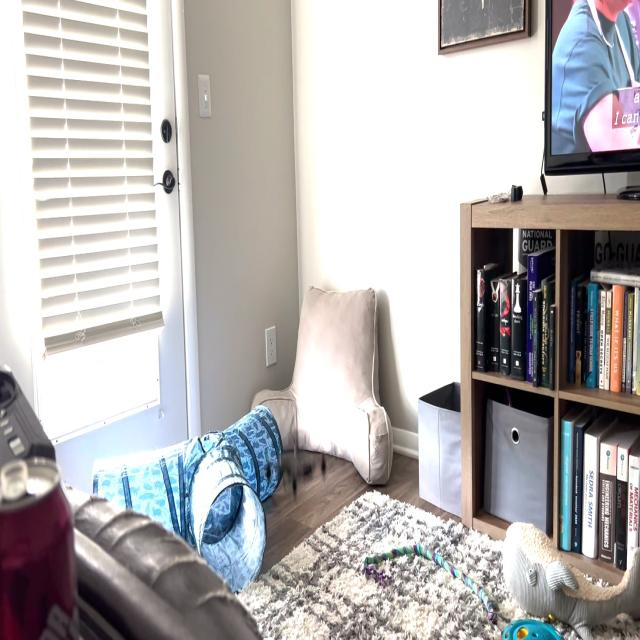drone: (255, 427, 330, 510)
